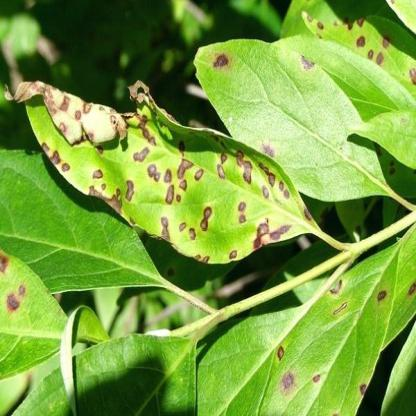Tomato leaf bacterial spot: (12, 63, 324, 273), (183, 26, 382, 202)
